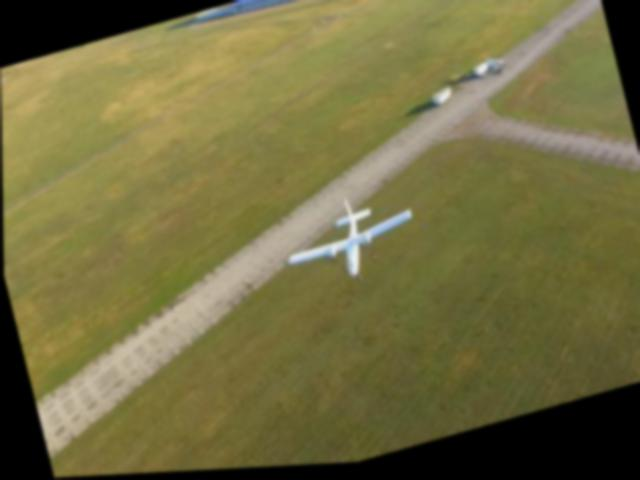uav: (275, 186, 424, 298)
